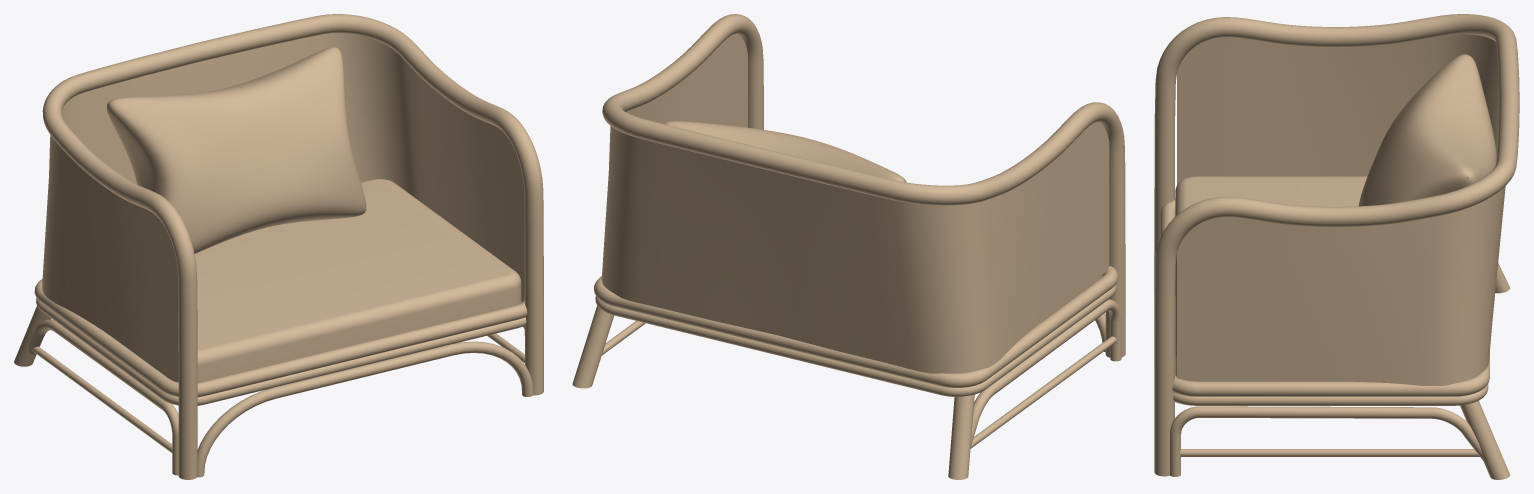
The model's file is SM_chair_01.glb.
The picture shows the model from 3 angles, left to right: view 1: azimuth 30°, elevation 25°; view 2: azimuth 150°, elevation 25°; view 3: azimuth 270°, elevation 25°; orthographic projection. The views are drawn at different scales.
Parts seen in each view (by area): view 1: SM_chair_01; view 2: SM_chair_01; view 3: SM_chair_01.
Boxes of the visible parts, bbox=[...] form: SM_chair_01: bbox=[14, 14, 543, 479]; SM_chair_01: bbox=[572, 14, 1125, 479]; SM_chair_01: bbox=[1154, 14, 1519, 479].
Size of the model in its own units: 1.07 by 0.7399 by 0.8453.
